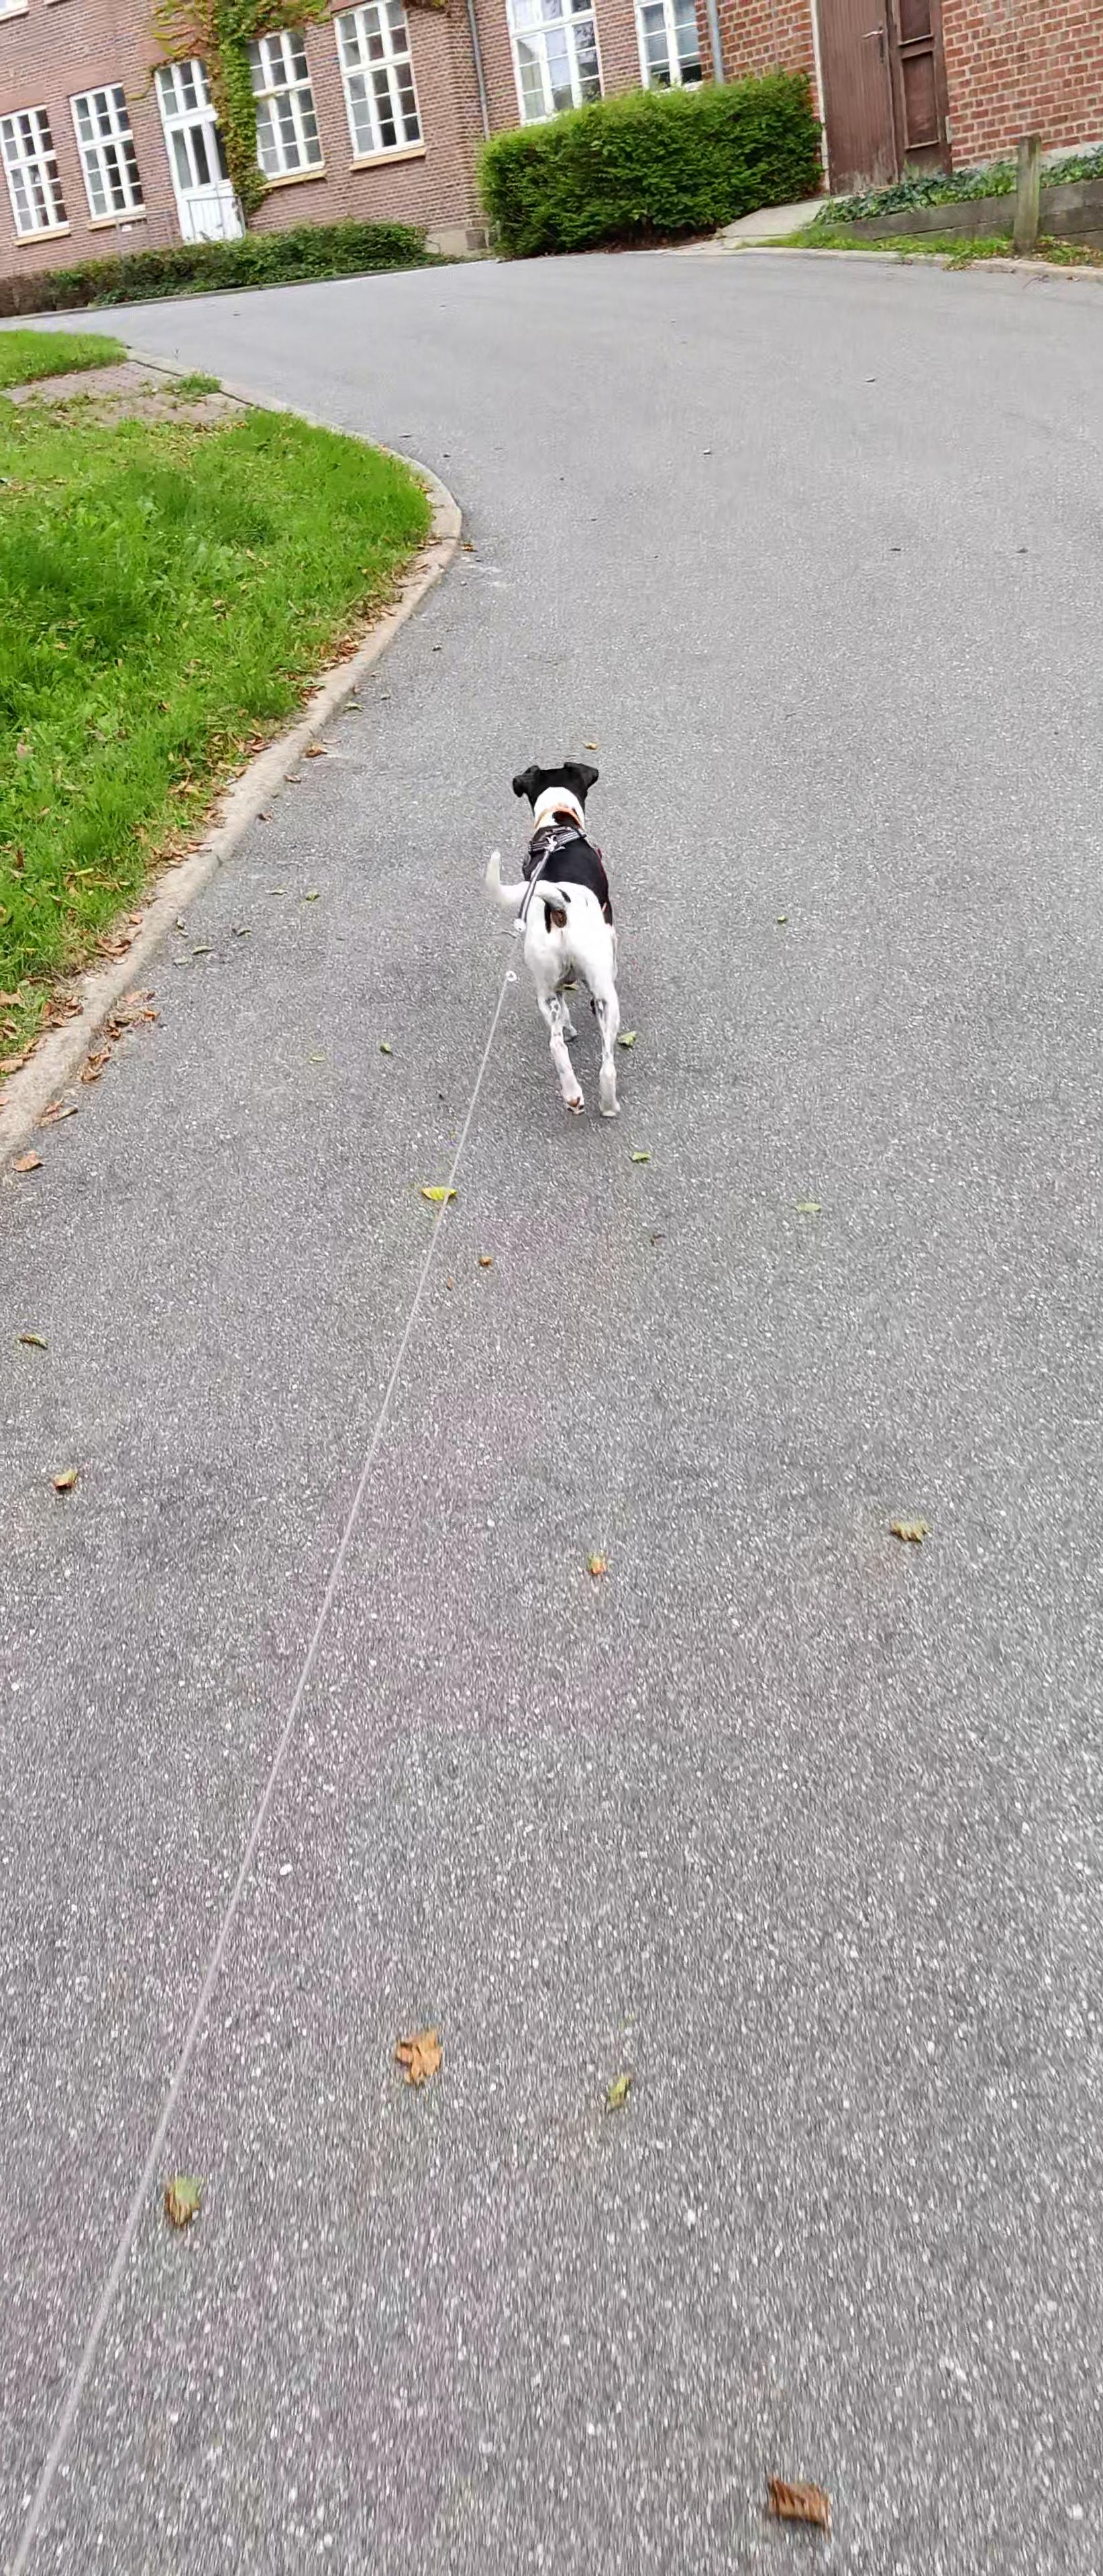Dog: (483, 757, 623, 1122)
